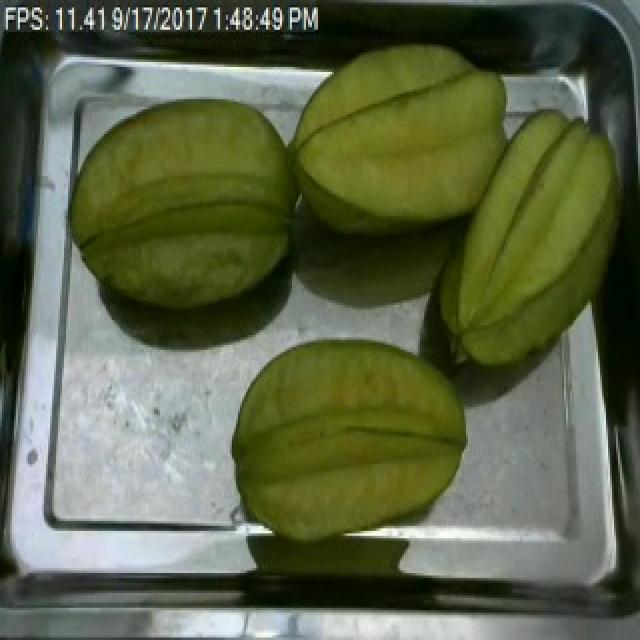fruit: (426, 96, 638, 380), (220, 325, 480, 553), (58, 85, 308, 322), (274, 32, 540, 248)
